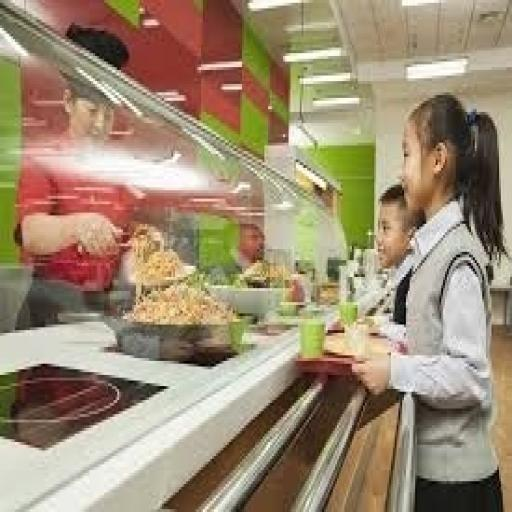eating: (348, 90, 508, 509)
